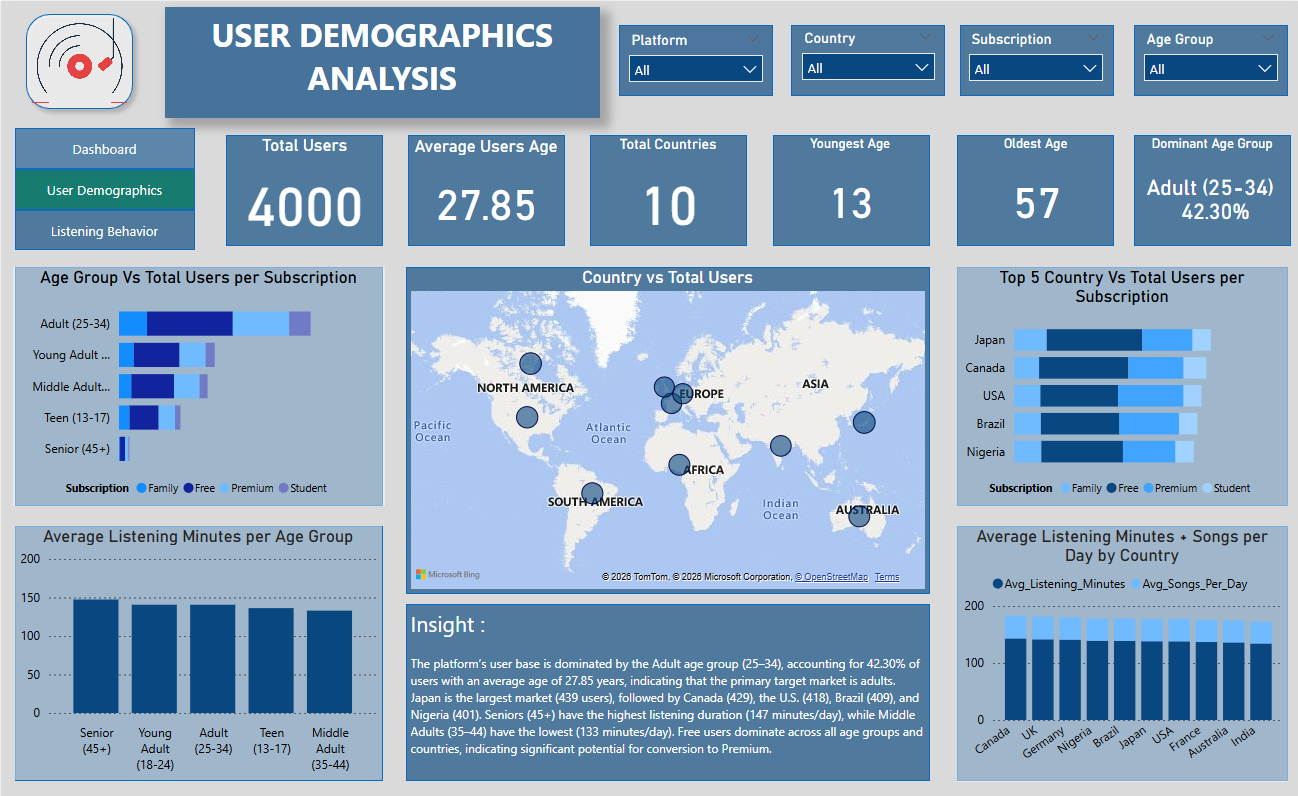

What the dashboard file says about the page in this screenshot:
{"tool":"powerbi","page":{"name":"User Demographics","canvas":[1300,810],"ordinal":1},"visuals":[{"type":"textbox","box":[164.1,5.8,434.8,110.9],"z":0},{"type":"shape","box":[15.8,4.3,125.2,112.3],"z":1000},{"type":"image","box":[15.8,4.3,125.2,110.9],"z":2000},{"type":"shape","box":[617.6,24.5,154,70.5],"z":3000},{"type":"shape","box":[789.6,24.1,154.4,70.5],"z":4000},{"type":"shape","box":[958.8,24.5,154,70.5],"z":5000},{"type":"shape","box":[1133,24.5,154,70.5],"z":6000},{"type":"slicer","fields":{"Values":["music_streaming_habits_2026.platform"]},"box":[618,26,154,71],"z":7000},{"type":"slicer","fields":{"Values":["music_streaming_habits_2026.country"]},"box":[791,24,153,70],"z":8000},{"type":"shape","box":[224.6,133.9,156.9,110.9],"z":9000},{"type":"shape","box":[407.4,133.9,156.9,110.9],"z":10000},{"type":"shape","box":[588.8,133.9,156.9,110.9],"z":11000},{"type":"shape","box":[771.7,133.9,156.9,110.9],"z":12000},{"type":"shape","box":[1133,133.9,156.9,110.9],"z":13000},{"type":"shape","box":[955.9,133.9,156.9,110.9],"z":14000},{"type":"shape","box":[14.4,126.7,180,41.7],"z":15000},{"type":"shape","box":[14.4,266.3,367.1,239],"z":16000},{"type":"shape","box":[14.4,168.4,180,40.3],"z":17000},{"type":"shape","box":[14.4,208.7,180,40.3],"z":18000},{"type":"shape","box":[14.4,525.5,367.1,254.8],"z":19000},{"type":"shape","box":[404.5,266.3,524,326.8],"z":20000},{"type":"shape","box":[955.9,266.3,331.1,239],"z":21000},{"type":"shape","box":[955.9,525.5,331.1,254.8],"z":22000},{"type":"shape","box":[404.5,603.2,524,177.1],"z":23000},{"type":"slicer","fields":{"Values":["music_streaming_habits_2026.subscription"]},"box":[958,25,154,70],"z":24000},{"type":"textbox","box":[405,603,525,178],"z":25000},{"type":"slicer","fields":{"Values":["music_streaming_habits_2026.age_group"]},"box":[1133,25,154,71],"z":26000},{"type":"card","title":"Total Users","fields":{"Values":["music_streaming_habits_2026.Total_Users"]},"box":[226,134,156,111],"z":27000},{"type":"barChart","title":"Top 5 Country Vs Total Users per Subscription","fields":{"Category":["music_streaming_habits_2026.country","music_streaming_habits_2026.age_group"],"Y":["music_streaming_habits_2026.Total_Users"],"Series":["music_streaming_habits_2026.subscription"]},"box":[956,266,331,239],"z":28000},{"type":"card","title":"Youngest Age","fields":{"Values":["music_streaming_habits_2026.Min_Age"]},"box":[771,135,157,110],"z":29000},{"type":"card","title":"Total Countries","fields":{"Values":["music_streaming_habits_2026.Total_Countries"]},"box":[589,135,157,110],"z":30000},{"type":"card","title":"Average Users Age","fields":{"Values":["music_streaming_habits_2026.Avg_Age"]},"box":[407,135,157,110],"z":31000},{"type":"card","title":"Oldest Age","fields":{"Values":["music_streaming_habits_2026.Max_Age"]},"box":[956,135,158,110],"z":32000},{"type":"card","title":"Dominant Age Group","fields":{"Values":["music_streaming_habits_2026.Pct_Top_Age_Group"]},"box":[1133,135,157,110],"z":33000},{"type":"barChart","title":"Age Group Vs Total Users per Subscription","fields":{"Category":["music_streaming_habits_2026.age_group"],"Y":["music_streaming_habits_2026.Total_Users"],"Series":["music_streaming_habits_2026.subscription"]},"box":[12,266,372,239],"z":34000},{"type":"columnChart","title":"Average Listening Minutes per Age Group","fields":{"Y":["music_streaming_habits_2026.Avg_Listening_Minutes"],"Category":["music_streaming_habits_2026.age_group"]},"box":[14,525,367,254],"z":35000},{"type":"map","title":"Country vs Total Users","fields":{"Category":["music_streaming_habits_2026.country"],"Size":["music_streaming_habits_2026.Total_Users"]},"box":[405,266,524,327],"z":36000},{"type":"columnChart","title":"Average Listening Minutes + Songs per Day by Country","fields":{"Y":["music_streaming_habits_2026.Avg_Listening_Minutes","music_streaming_habits_2026.Avg_Songs_Per_Day"],"Category":["music_streaming_habits_2026.country"]},"box":[956,525,331,256],"z":37000}]}

Visuals, with their boxes in screenshot pixels (x1, y1, x2, y2), scaled from the page's 1300x810 canvas onto the 1298x796 screenshot:
textbox: crop(164, 6, 598, 115)
shape: crop(16, 4, 141, 115)
image: crop(16, 4, 141, 113)
shape: crop(617, 24, 770, 93)
shape: crop(788, 24, 943, 93)
shape: crop(957, 24, 1111, 93)
shape: crop(1131, 24, 1285, 93)
slicer - music_streaming_habits_2026.platform: crop(617, 26, 771, 95)
slicer - music_streaming_habits_2026.country: crop(790, 24, 943, 92)
shape: crop(224, 132, 381, 241)
shape: crop(407, 132, 563, 241)
shape: crop(588, 132, 745, 241)
shape: crop(771, 132, 927, 241)
shape: crop(1131, 132, 1288, 241)
shape: crop(954, 132, 1111, 241)
shape: crop(14, 125, 194, 165)
shape: crop(14, 262, 381, 497)
shape: crop(14, 165, 194, 205)
shape: crop(14, 205, 194, 245)
shape: crop(14, 516, 381, 767)
shape: crop(404, 262, 927, 583)
shape: crop(954, 262, 1285, 497)
shape: crop(954, 516, 1285, 767)
shape: crop(404, 593, 927, 767)
slicer - music_streaming_habits_2026.subscription: crop(957, 25, 1110, 93)
textbox: crop(404, 593, 929, 768)
slicer - music_streaming_habits_2026.age_group: crop(1131, 25, 1285, 94)
"Total Users" card: crop(226, 132, 381, 241)
"Top 5 Country Vs Total Users per Subscription" barChart: crop(955, 261, 1285, 496)
"Youngest Age" card: crop(770, 133, 927, 241)
"Total Countries" card: crop(588, 133, 745, 241)
"Average Users Age" card: crop(406, 133, 563, 241)
"Oldest Age" card: crop(955, 133, 1112, 241)
"Dominant Age Group" card: crop(1131, 133, 1288, 241)
"Age Group Vs Total Users per Subscription" barChart: crop(12, 261, 383, 496)
"Average Listening Minutes per Age Group" columnChart: crop(14, 516, 380, 766)
"Country vs Total Users" map: crop(404, 261, 928, 583)
"Average Listening Minutes + Songs per Day by Country" columnChart: crop(955, 516, 1285, 768)
